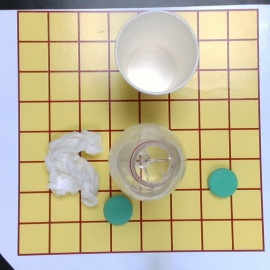bottle: (107, 124, 186, 202)
cup: (116, 11, 200, 96)
green: (103, 195, 133, 225), (207, 167, 237, 197)
